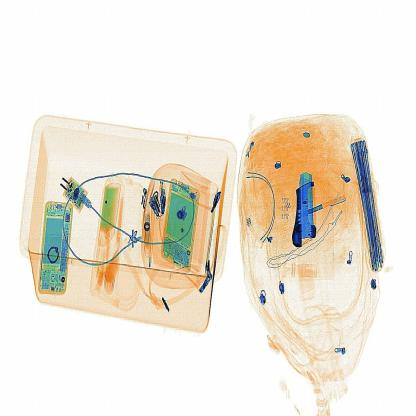pliers: (290, 167, 321, 247)
